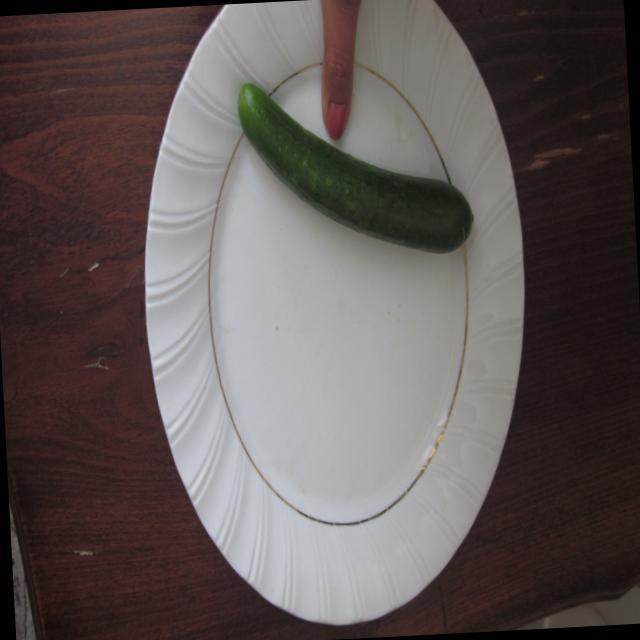Cucumber: (232, 67, 482, 272)
Finger: (313, 0, 372, 143)
